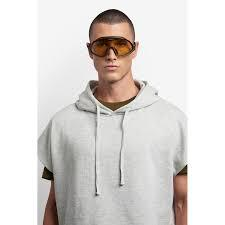sunglasses: (86, 34, 138, 59)
